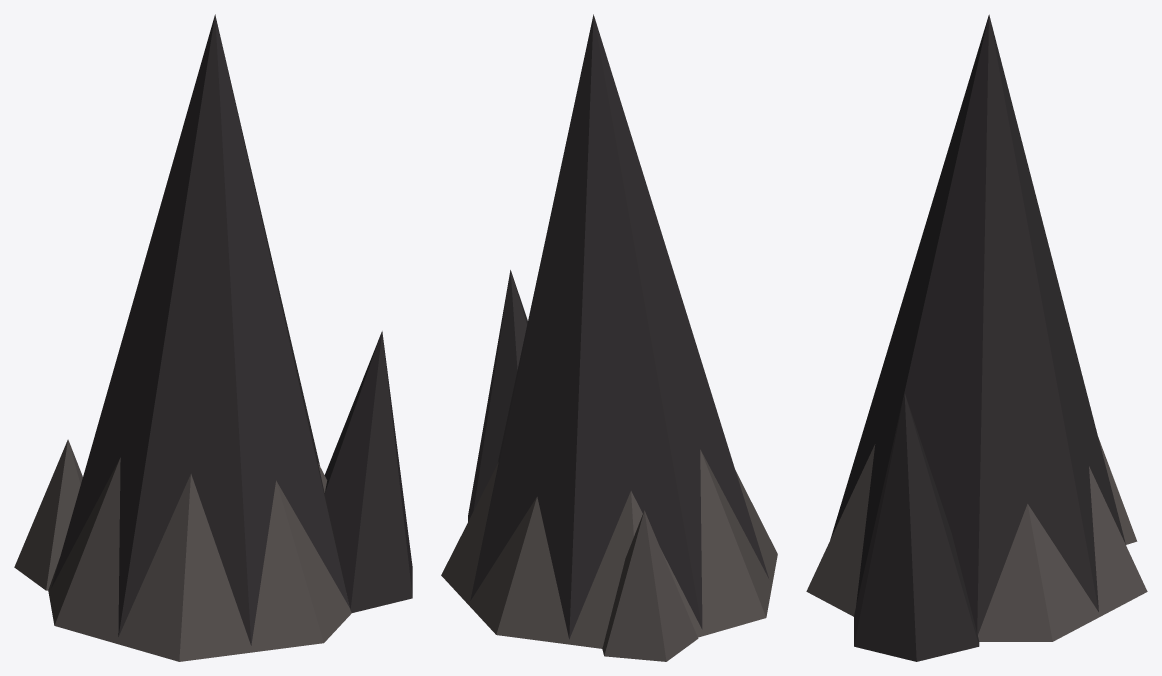
The model's file is cave_stalagmite.glb.
The picture shows the model from 3 angles, left to right: view 1: azimuth 30°, elevation 25°; view 2: azimuth 150°, elevation 25°; view 3: azimuth 270°, elevation 25°; orthographic projection.
Parts seen in each view (by area): view 1: cave_stalagmite; view 2: cave_stalagmite; view 3: cave_stalagmite.
Boxes of the visible parts, box(x1,y1,x2,y2) form: cave_stalagmite: box(14, 14, 412, 661); cave_stalagmite: box(441, 14, 777, 661); cave_stalagmite: box(806, 14, 1147, 661).
Bounding box in the file's own units: 3.15 × 5.2 × 2.83.
Materials: 1 (1 with a texture image).
